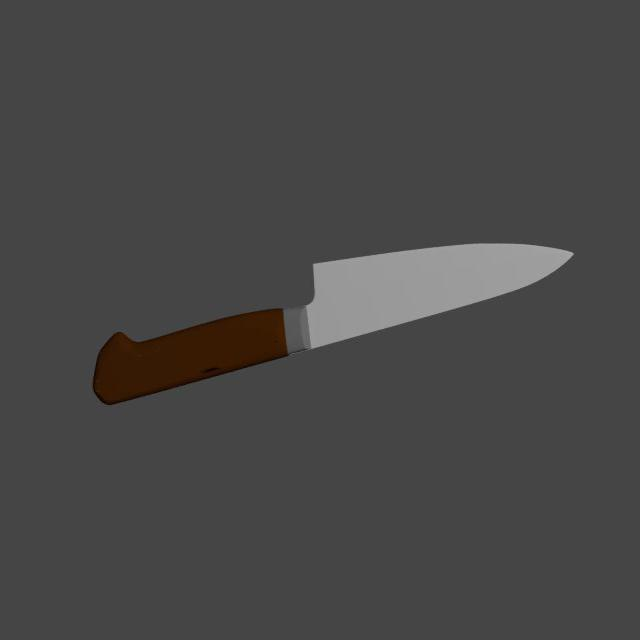knife: (93, 308, 290, 406)
